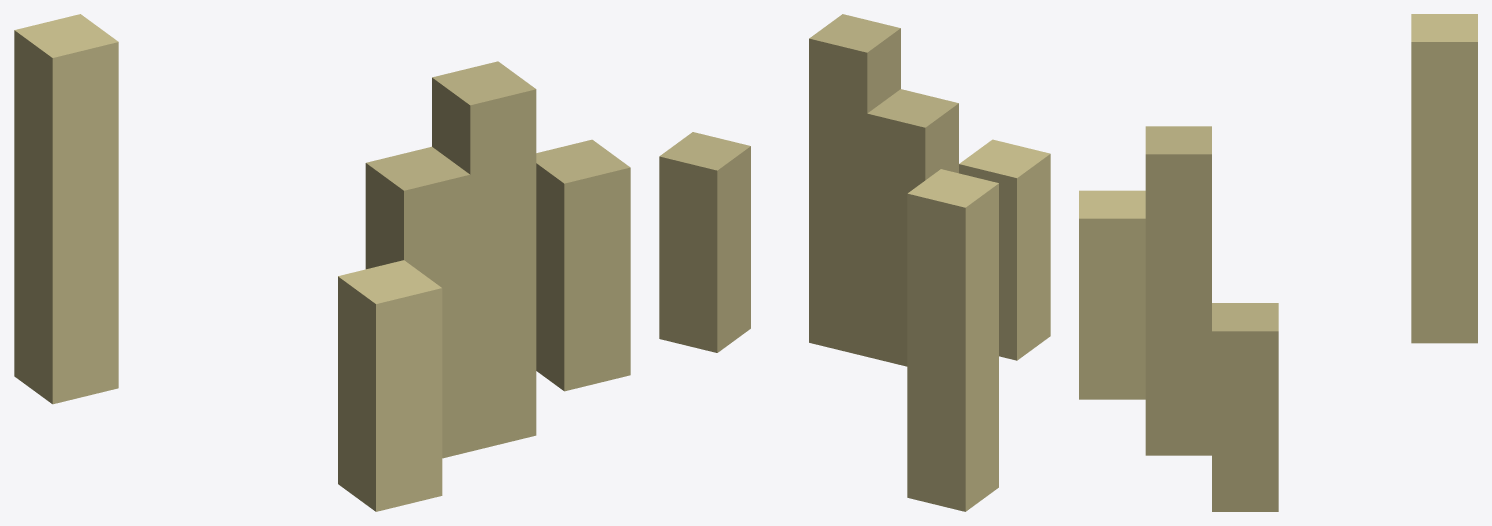
Rendered from esparto_01.glb.
The picture shows the model from 3 angles, left to right: view 1: azimuth 30°, elevation 25°; view 2: azimuth 150°, elevation 25°; view 3: azimuth 270°, elevation 25°; orthographic projection. The views are drawn at different scales.
Visible parts, largest first — view 1: esparto_01; view 2: esparto_01; view 3: esparto_01.
Part boxes in pixels (x1,y1,x2,y2): esparto_01: (14,14,630,511); esparto_01: (659,14,1050,511); esparto_01: (1079,14,1477,511).
Size of the model in its own units: 0.7 by 0.5 by 0.6.
